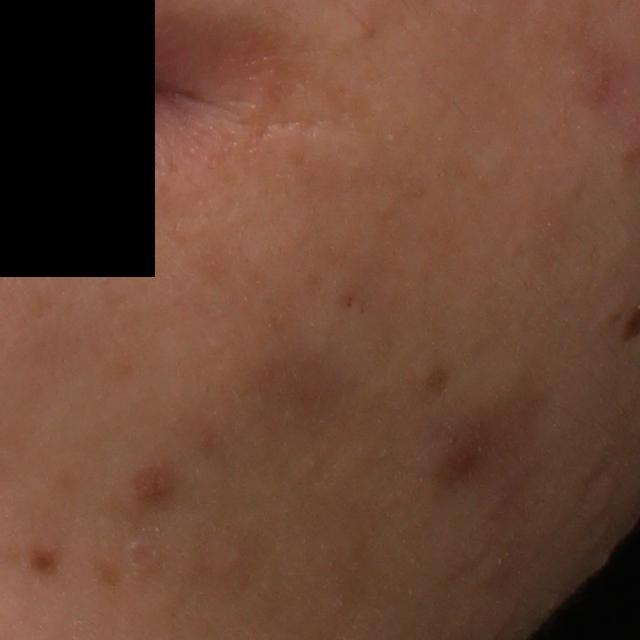nevus: (23, 539, 63, 577)
